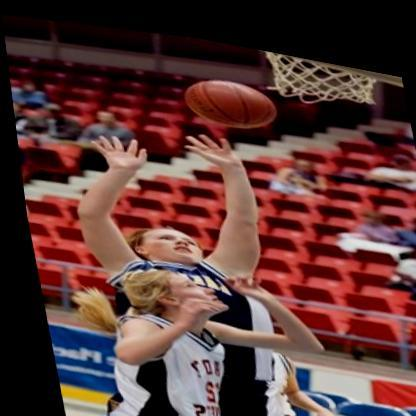basketball: (179, 62, 280, 129)
